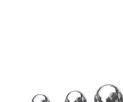ironball: (94, 84, 122, 101), (64, 90, 86, 101), (30, 94, 51, 101)
